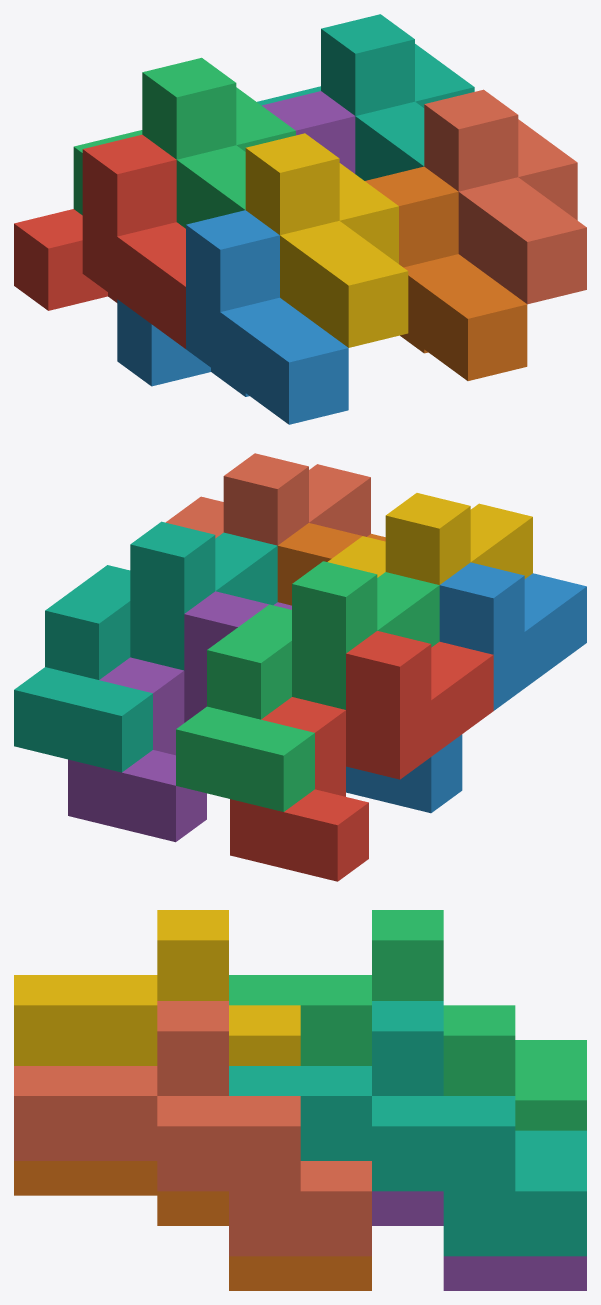
Rendered from tiling.obj.
The picture shows the model from 3 angles, top to bottom: view 1: azimuth 30°, elevation 25°; view 2: azimuth 150°, elevation 25°; view 3: azimuth 270°, elevation 25°; orthographic projection. The views are drawn at different scales.
Visible parts, largest first — view 1: copy_1_domain_2, copy_1_domain_8, copy_1_domain_4, copy_1_domain_1, copy_1_domain_6, copy_1_domain_3, copy_1_domain_7, copy_1_domain_5; view 2: copy_1_domain_7, copy_1_domain_3, copy_1_domain_1, copy_1_domain_2, copy_1_domain_5, copy_1_domain_4, copy_1_domain_8, copy_1_domain_6; view 3: copy_1_domain_8, copy_1_domain_7, copy_1_domain_3, copy_1_domain_4, copy_1_domain_6, copy_1_domain_5.
Boxes of the visible parts, left/top/right/bottom form: copy_1_domain_2: left=117, top=210, right=348, bottom=424; copy_1_domain_8: left=424, top=89, right=586, bottom=304; copy_1_domain_4: left=245, top=133, right=408, bottom=347; copy_1_domain_1: left=14, top=134, right=185, bottom=348; copy_1_domain_6: left=365, top=166, right=527, bottom=380; copy_1_domain_3: left=73, top=57, right=295, bottom=228; copy_1_domain_7: left=257, top=14, right=474, bottom=180; copy_1_domain_5: left=262, top=91, right=355, bottom=173; copy_1_domain_7: left=14, top=521, right=277, bottom=772; copy_1_domain_3: left=176, top=561, right=439, bottom=811; copy_1_domain_1: left=230, top=631, right=493, bottom=881; copy_1_domain_2: left=346, top=562, right=586, bottom=813; copy_1_domain_5: left=68, top=591, right=291, bottom=842; copy_1_domain_4: left=328, top=493, right=532, bottom=584; copy_1_domain_8: left=165, top=453, right=370, bottom=545; copy_1_domain_6: left=277, top=523, right=385, bottom=605; copy_1_domain_8: left=14, top=1001, right=371, bottom=1256; copy_1_domain_7: left=229, top=1001, right=586, bottom=1256; copy_1_domain_3: left=229, top=910, right=586, bottom=1130; copy_1_domain_4: left=14, top=910, right=300, bottom=1065; copy_1_domain_6: left=14, top=1161, right=371, bottom=1290; copy_1_domain_5: left=372, top=1191, right=586, bottom=1290.
Bounding box in the file's own units: 6 × 4 × 8.
